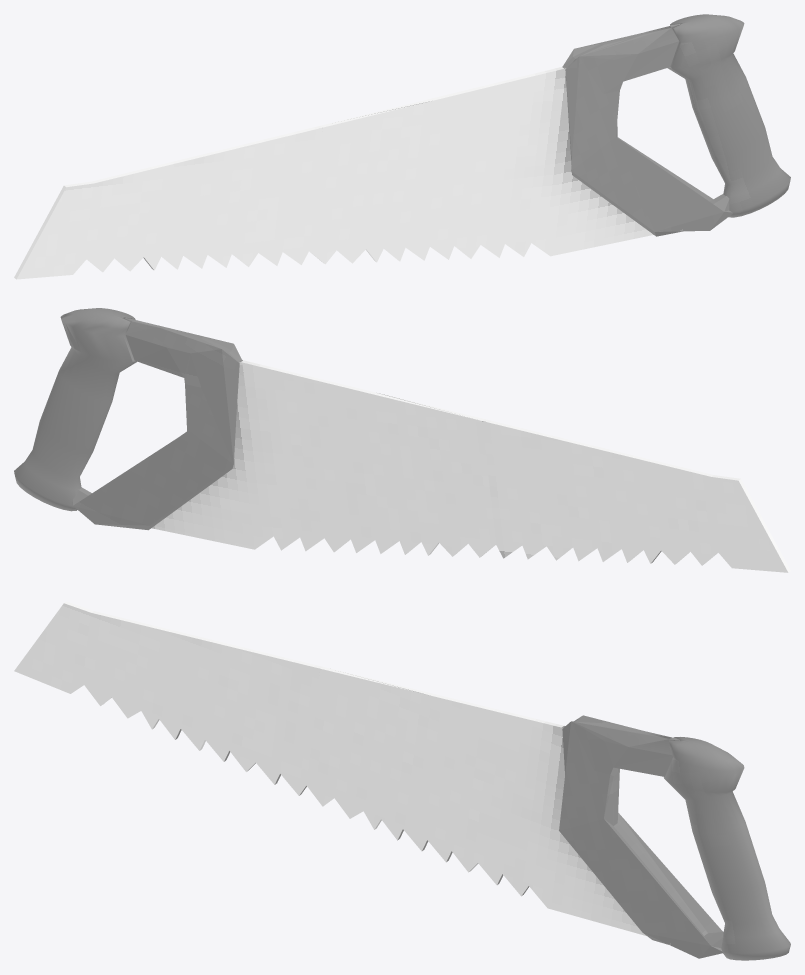
Rendered from Saw.glb.
3 renders of one model, top to bottom at view 1: azimuth 30°, elevation 25°; view 2: azimuth 150°, elevation 25°; view 3: azimuth 330°, elevation 25°, orthographic.
Visible parts, largest first — view 1: Saw; view 2: Saw; view 3: Saw.
Part boxes in pixels (<box>): Saw: <box>14,14,790,279</box>; Saw: <box>14,308,790,572</box>; Saw: <box>14,601,790,960</box>.
Size of the model in its own units: 0.8839 by 0.2279 by 0.0356.
Materials: 1 (1 with a texture image).
